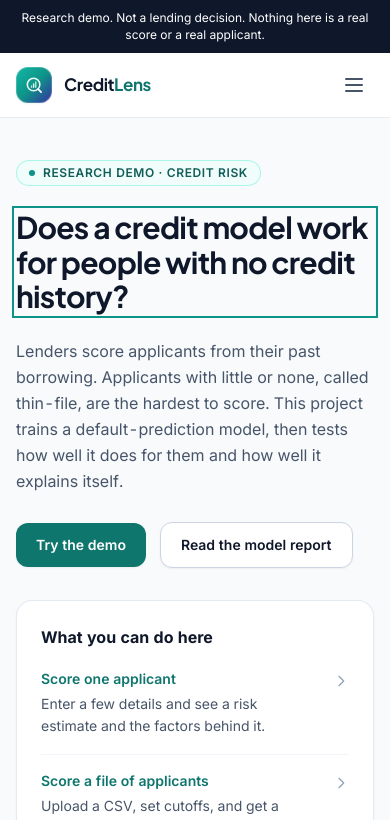
Test: shell: mobile menu › toggles with aria-expanded/aria-controls and closes on selection
Click the button named "Toggle menu". click: click(354, 85)
box: [334,65,374,105]
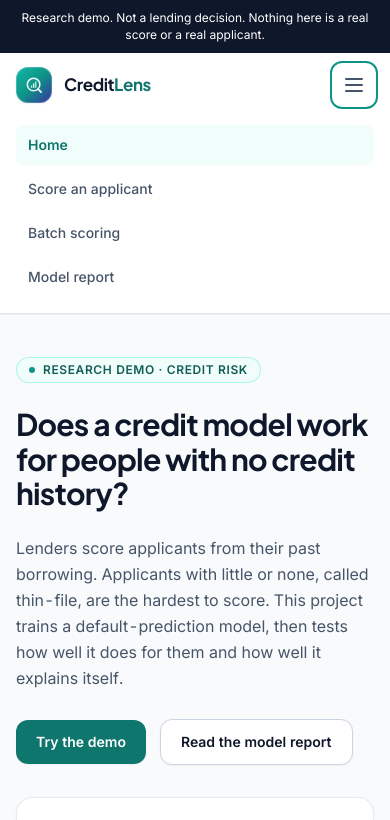
Click the link "Batch scoring". click: click(74, 232)
box: [28,224,120,241]
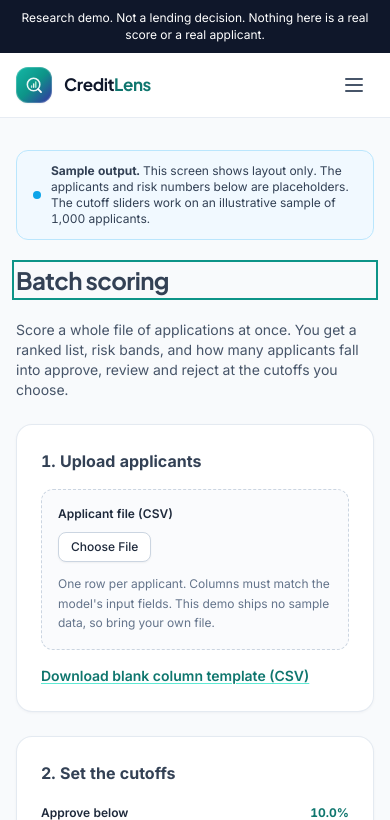
Result: the heading "Batch scoring" is shown at [16,265,169,295]
